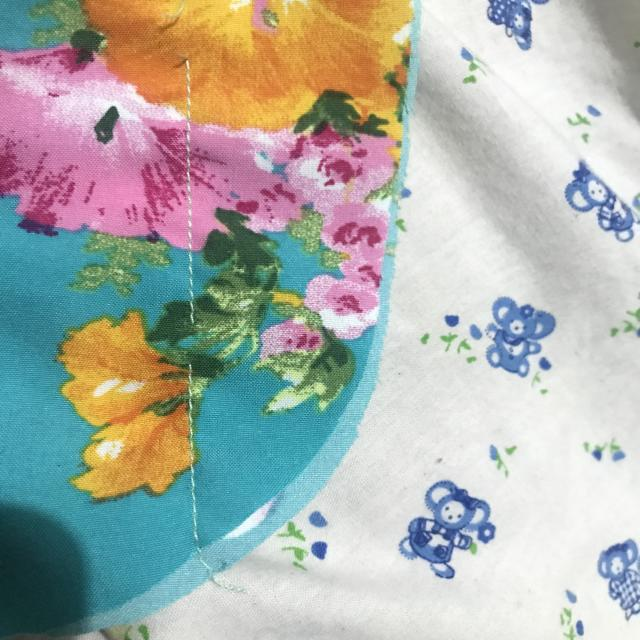broken: (180, 306, 203, 386)
good: (176, 196, 204, 292)
